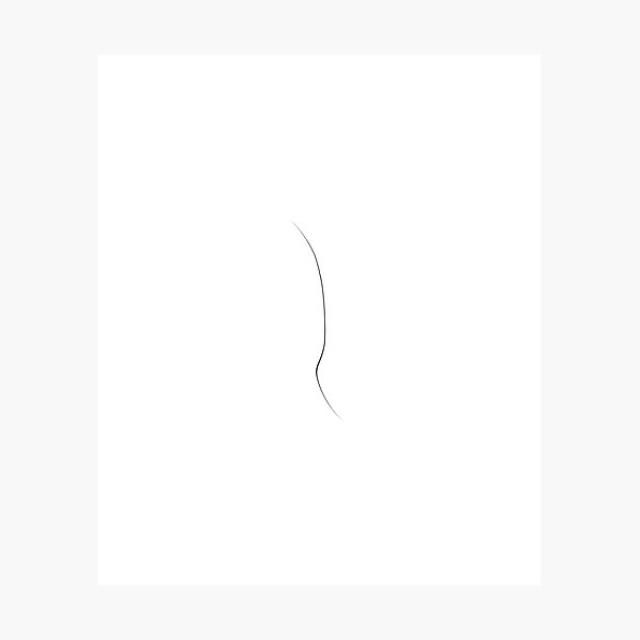hair: (284, 216, 349, 422)
